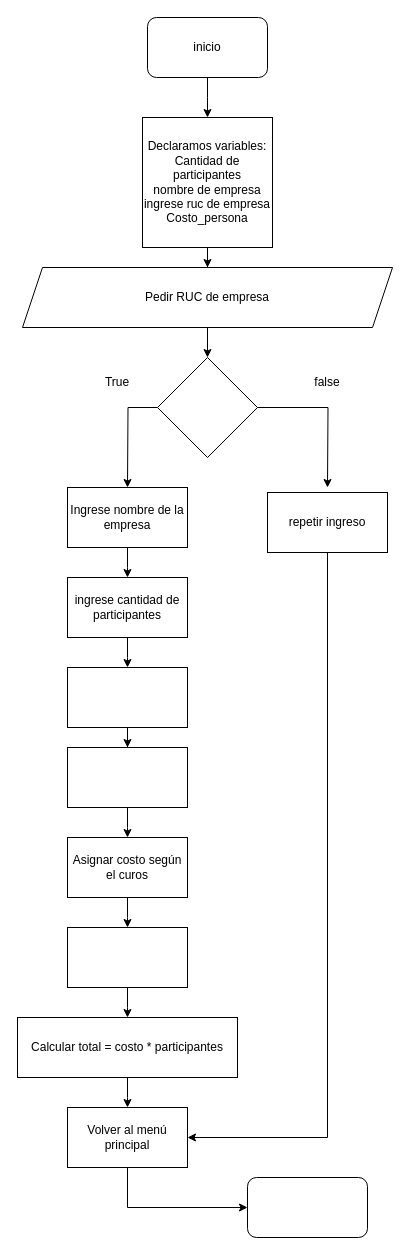
Some shapes in this 410 by 1255 pixel diagram are drawn without their labels. Here are the shapes that lost their labels. From the top down, the box of each, then its label:
(156, 356, 258, 458): Ruc tiene 11 digitos?
(66, 666, 188, 728): Mostrar lista de cursos
(66, 746, 188, 808): Leer curso elegido
(66, 926, 188, 988): Asignar costo segun el curso
(246, 1176, 368, 1238): Fin
